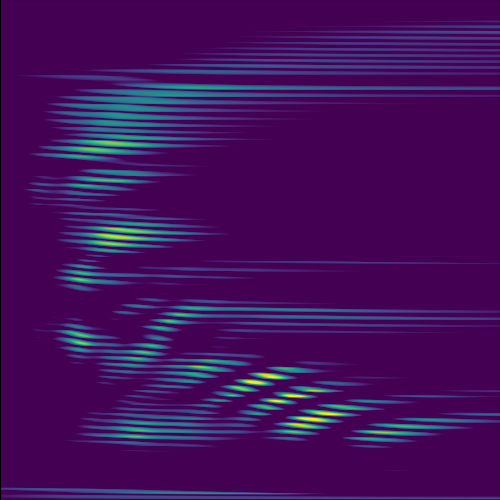semblance: (276, 399, 362, 436), (90, 218, 172, 255), (264, 375, 329, 414), (229, 360, 282, 401), (76, 131, 140, 158), (76, 168, 141, 194), (188, 360, 224, 375), (368, 427, 402, 438)
